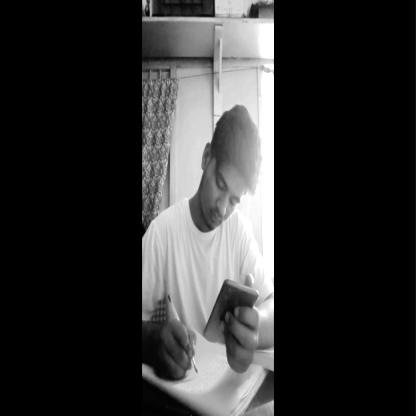Distracted: (188, 101, 254, 239)
